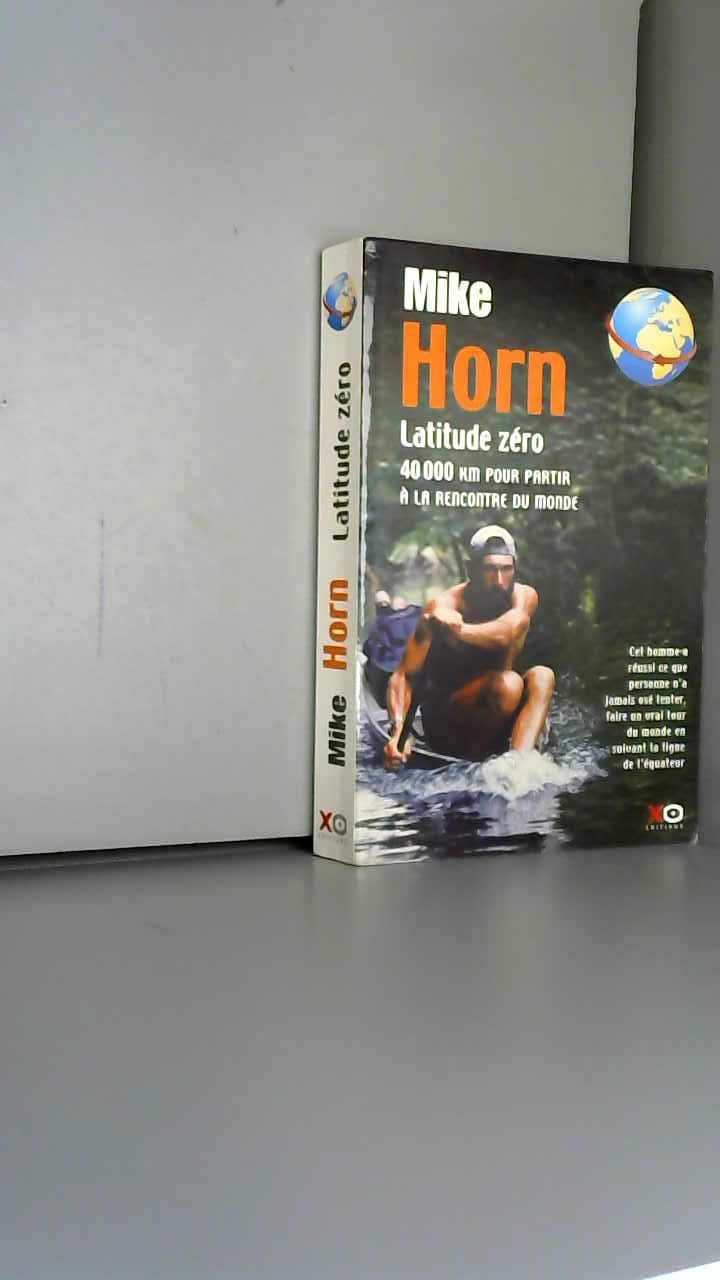book: (280, 210, 720, 888)
